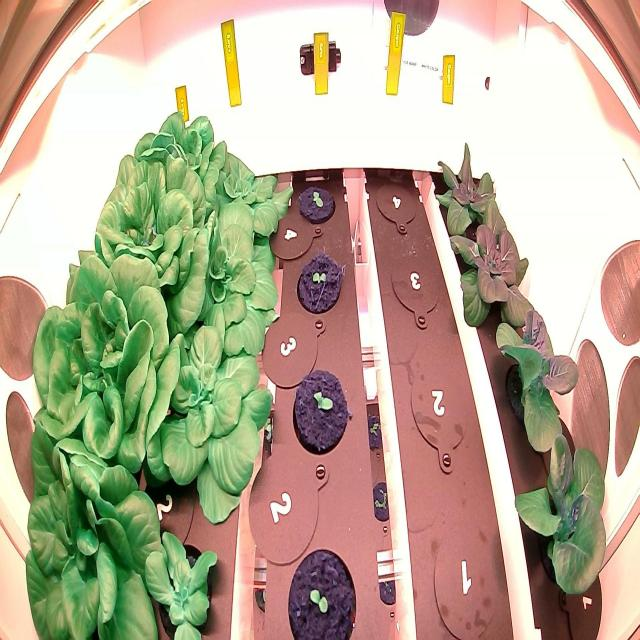Ready: (23, 240, 185, 486), (21, 423, 162, 639), (88, 132, 214, 338), (128, 97, 228, 234)
empty_pod: (428, 509, 502, 639), (406, 352, 475, 478), (384, 239, 447, 337), (370, 160, 422, 237)
germination: (278, 536, 363, 639), (284, 360, 353, 463), (291, 244, 346, 322), (292, 173, 340, 233)
young: (144, 315, 279, 534), (509, 414, 623, 630), (165, 194, 285, 377), (489, 296, 592, 473), (444, 198, 544, 337), (196, 124, 296, 248), (142, 522, 230, 640), (426, 133, 512, 244)
